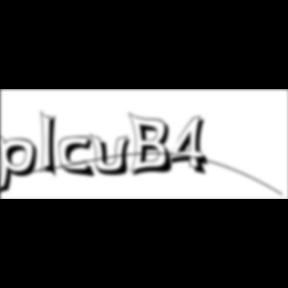4: (168, 115, 216, 179)
B: (128, 111, 178, 179)
c: (59, 136, 99, 180)
l: (40, 108, 64, 182)
p: (0, 132, 44, 198)
u: (90, 132, 138, 178)
